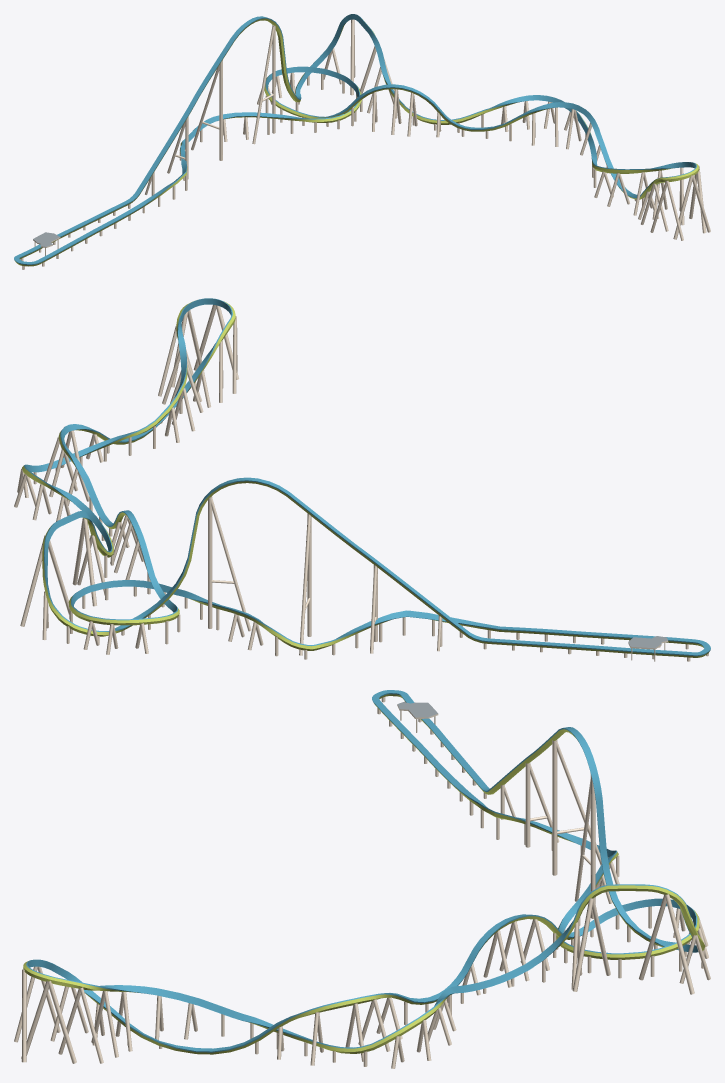
Rendered from carowinds-fury-325.glb.
3 renders of one model, top to bottom at view 1: azimuth 30°, elevation 25°; view 2: azimuth 150°, elevation 25°; view 3: azimuth 270°, elevation 25°, orthographic. The views are drawn at different scales.
Parts seen in each view (by area): view 1: Fury 325; view 2: Fury 325; view 3: Fury 325.
Part boxes in pixels (box(x1,y1,x2,y2)): Fury 325: box(14, 14, 710, 269); Fury 325: box(14, 298, 710, 661); Fury 325: box(14, 690, 710, 1068).
Bounding box in the file's own units: 476 × 102 × 379.
